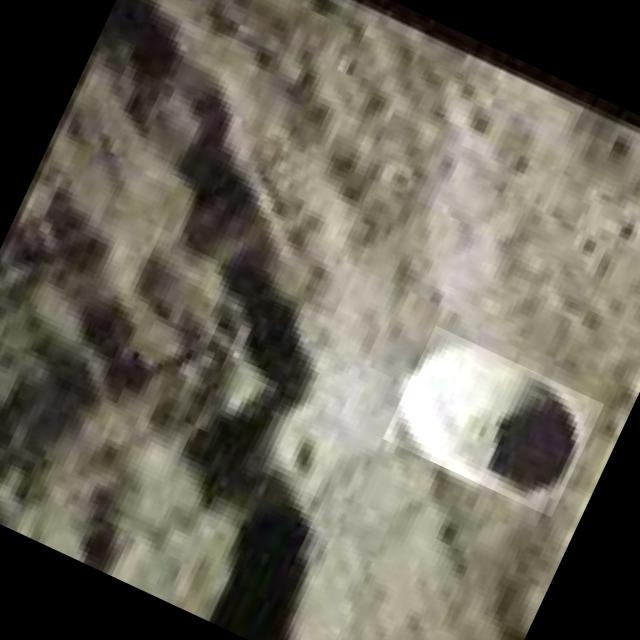crater: (383, 326, 604, 518)
